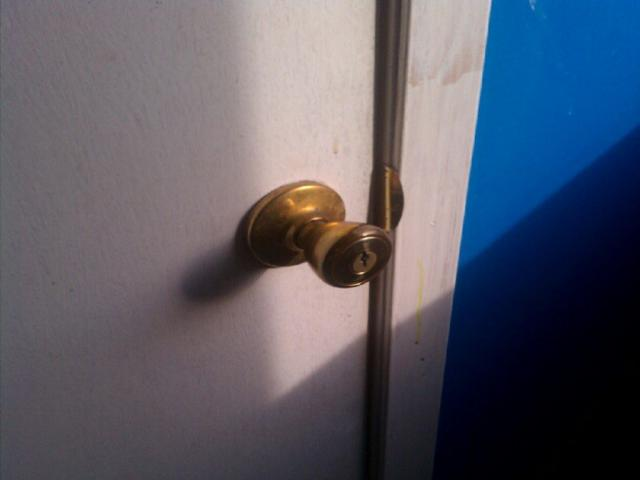Door-handle: (241, 178, 394, 287)
